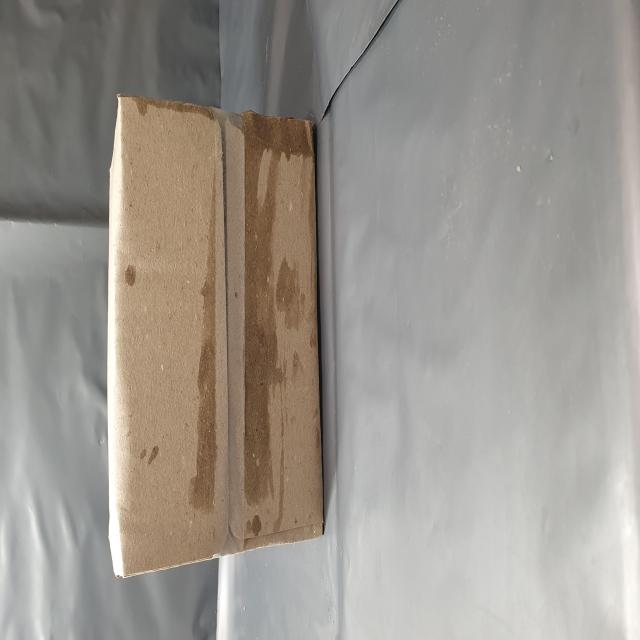wet: (58, 429, 299, 579), (68, 333, 262, 393)
